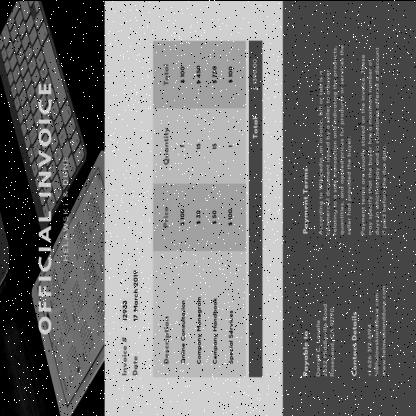Paragraph: (300, 43, 388, 238), (35, 80, 71, 336), (350, 282, 388, 378), (300, 300, 338, 380), (118, 267, 141, 377), (250, 56, 260, 141)
Table: (159, 58, 239, 368)
